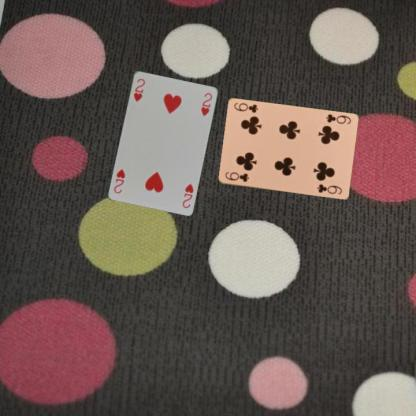2h: (180, 181, 194, 209), (131, 76, 146, 102)
6c: (323, 112, 352, 126), (223, 169, 250, 183)
